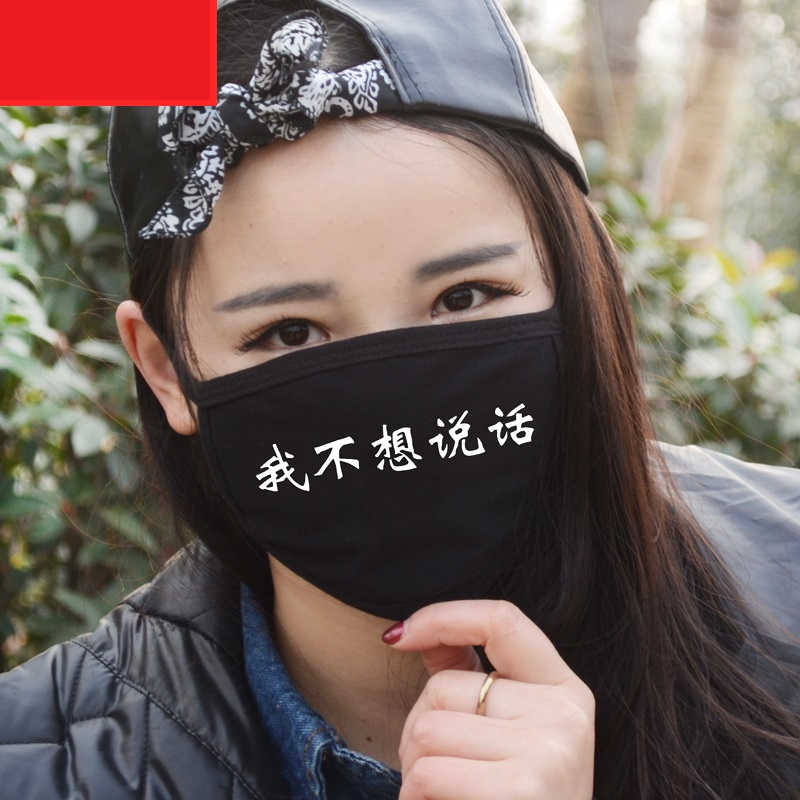face_mask: (193, 135, 558, 577)
